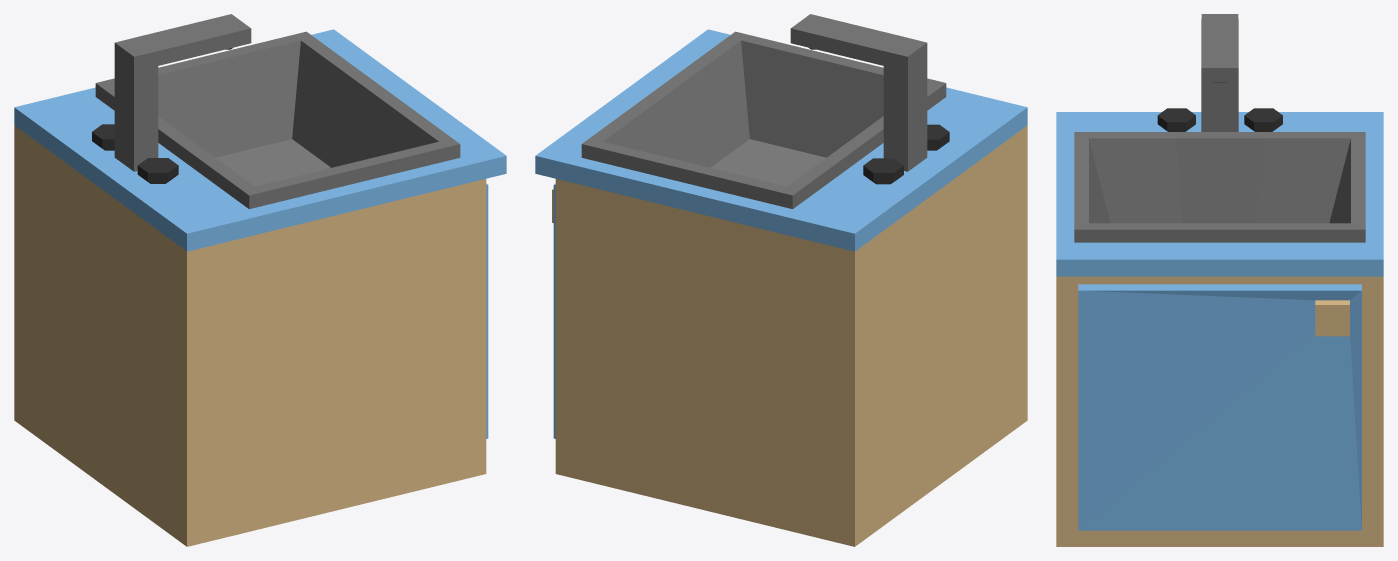
The model's file is Sink.fbx.
3 renders of one model, left to right at view 1: azimuth 30°, elevation 25°; view 2: azimuth 150°, elevation 25°; view 3: azimuth 270°, elevation 25°, orthographic. The views are drawn at different scales.
Parts seen in each view (by area): view 1: Cube; view 2: Cube; view 3: Cube.
Part boxes in pixels (x1,y1,x2,y2): Cube: (14,14,506,546); Cube: (535,14,1027,546); Cube: (1056,14,1383,546).
Bounding box in the file's own units: 214 × 273 × 200.
